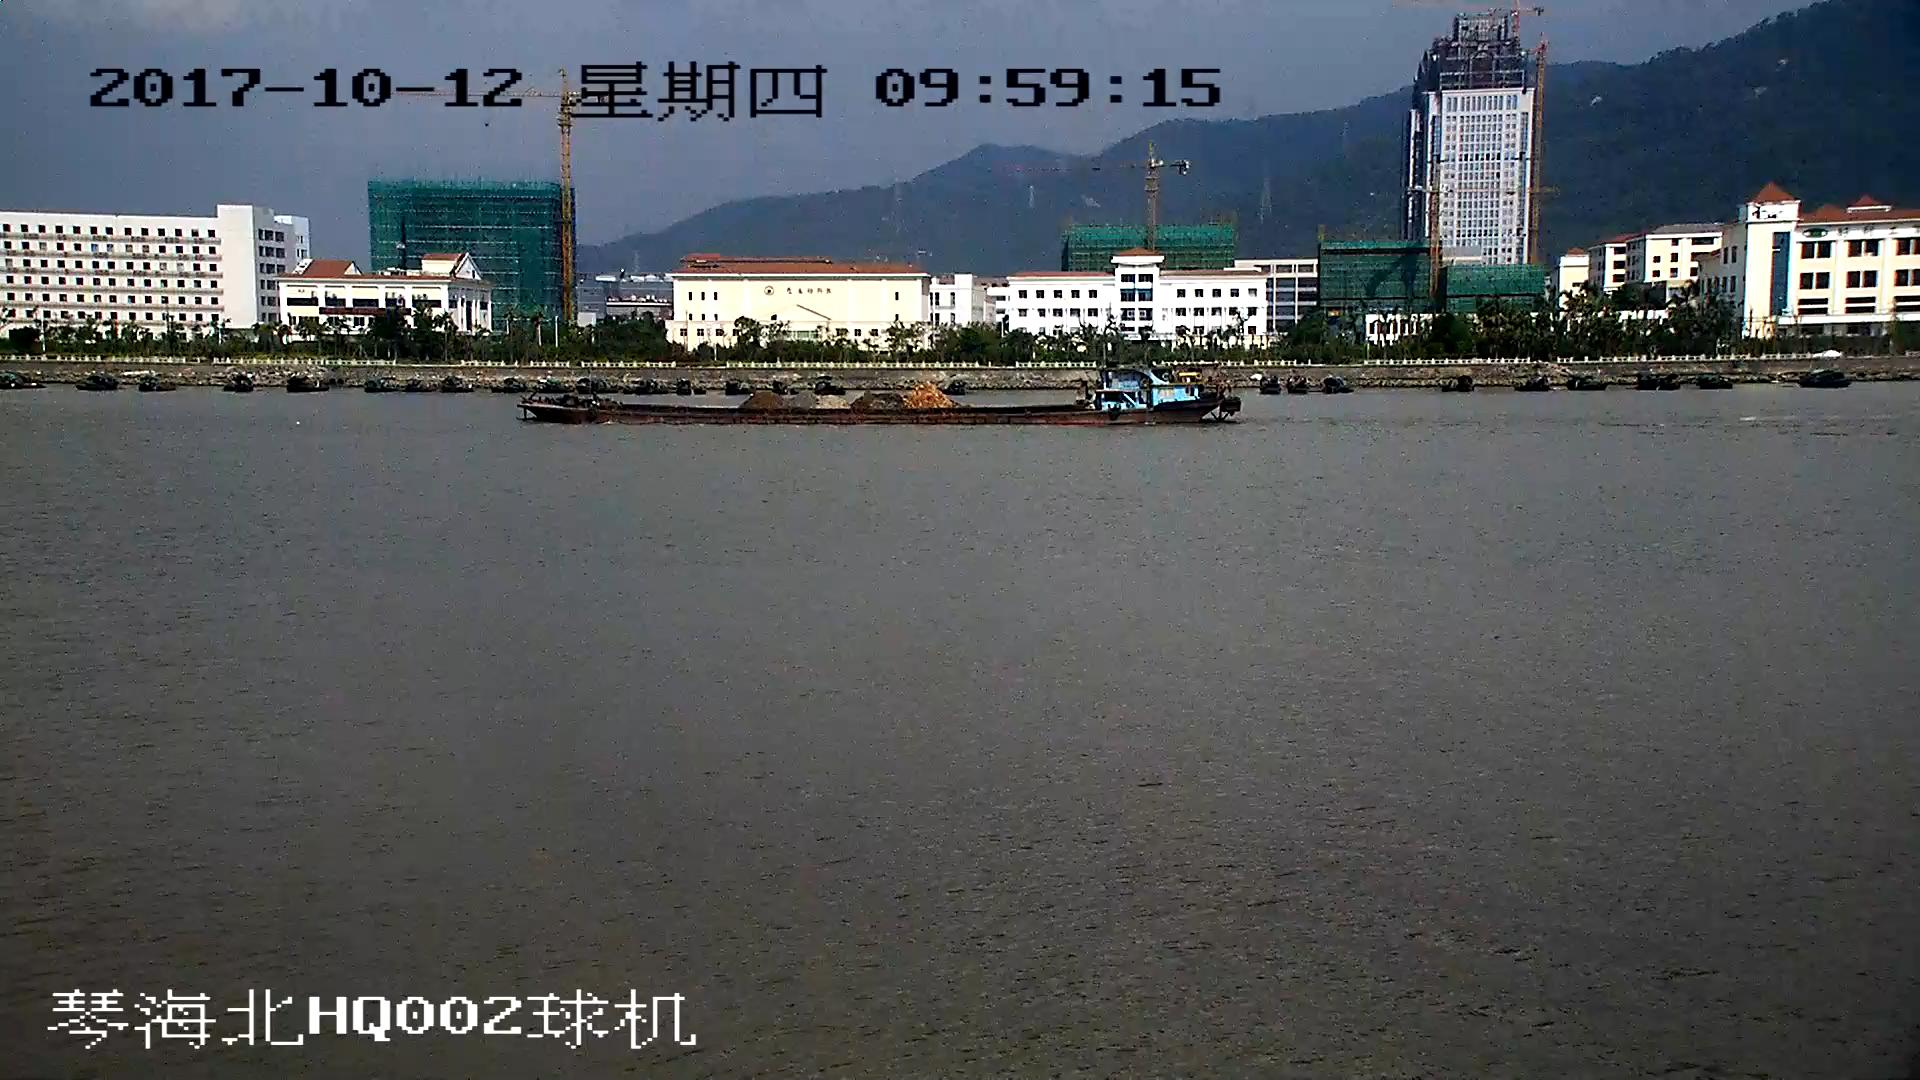ore carrier: (525, 360, 1239, 429)
